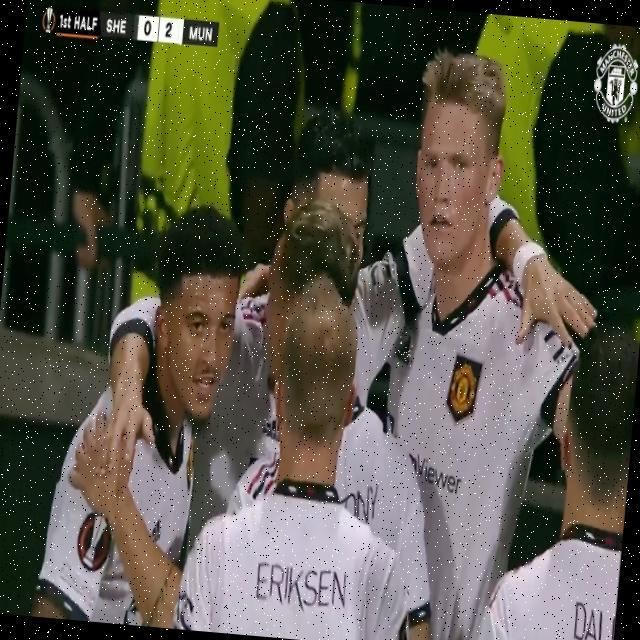Adidas: (260, 412, 283, 446), (395, 331, 414, 367)
